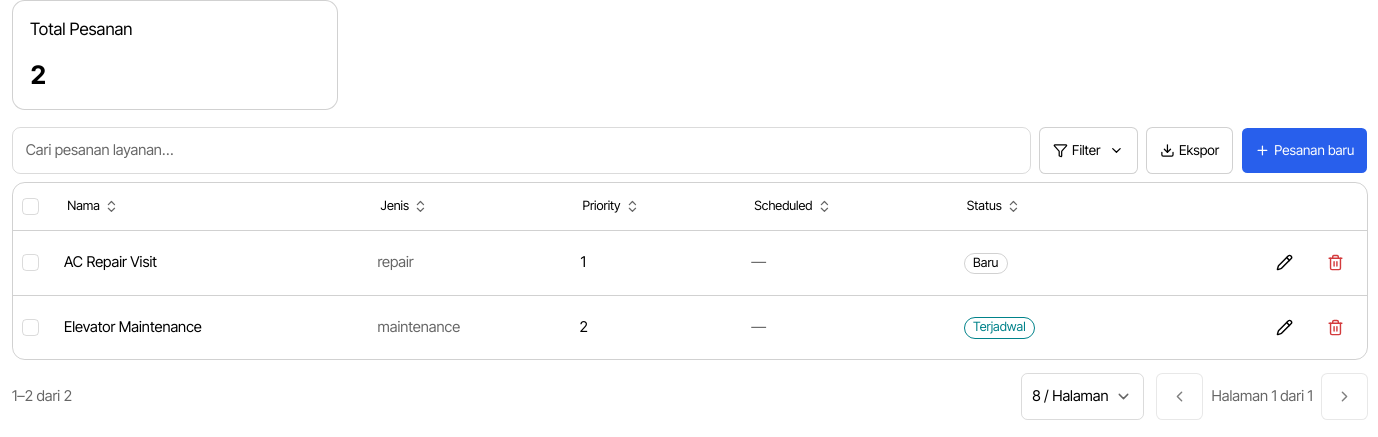
ServiceOrdersSection › filters orders by search
This screenshot has width=1378, height=437.
Expected: the link "AC Repair Visit" is shown, [64,253,157,271]
Type "Elevator" into the search field with placeholder "Cari pesanan layanan…". click: (521, 150)
box: [12,127,1031,174]
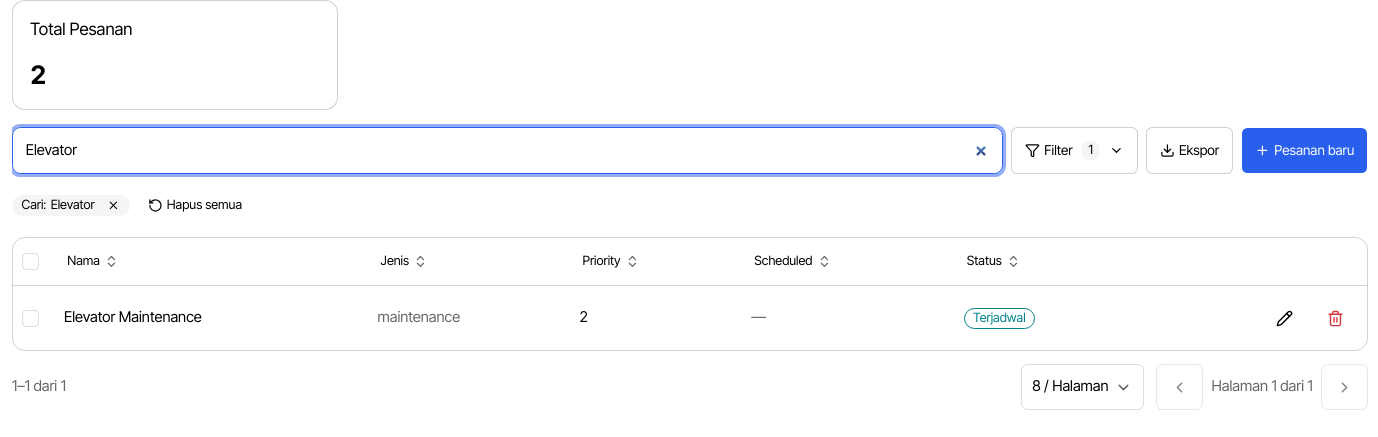
Expected: the link "Elevator Maintenance" is shown, [64,308,202,326]
Expected: the link "AC Repair Visit" is gone
